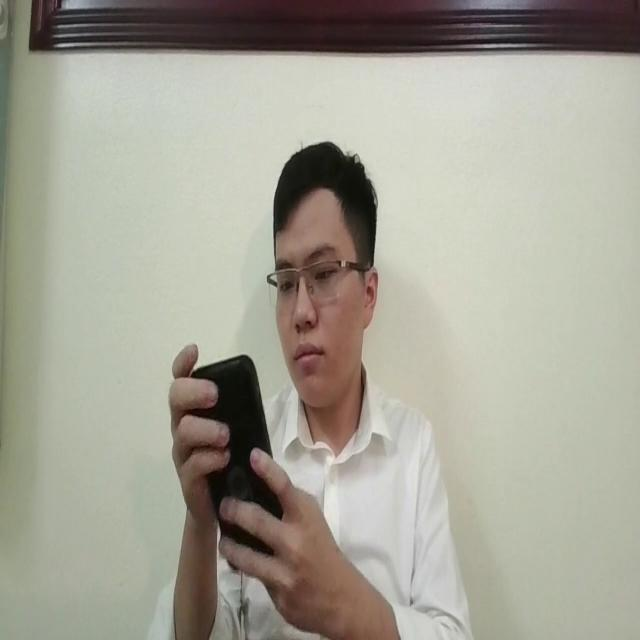phone: (185, 349, 292, 565)
student: (143, 137, 472, 640)
